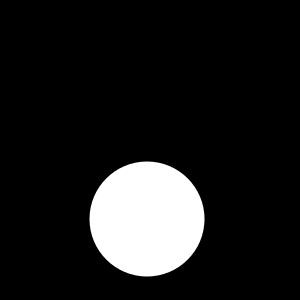rectangle: (90, 162, 204, 276)
